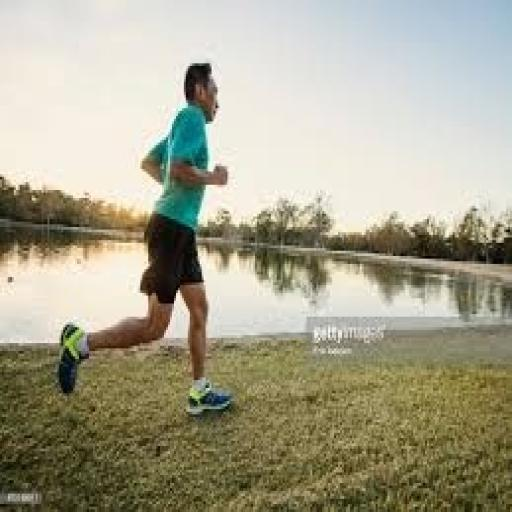running: (56, 58, 238, 420)
